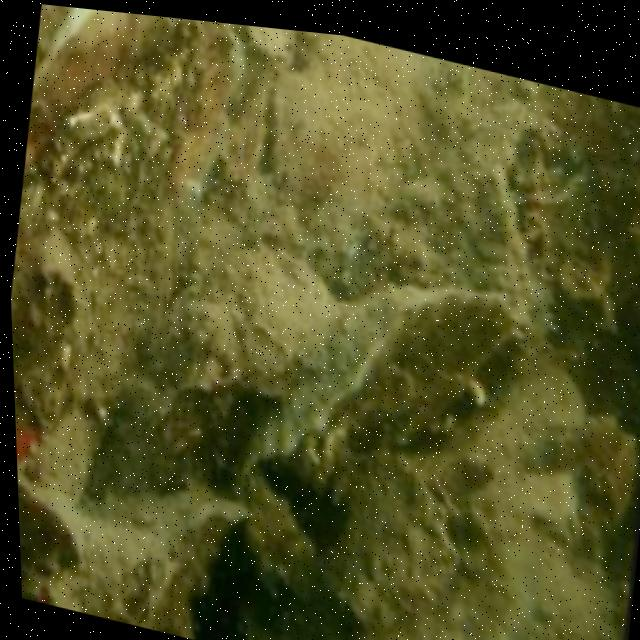Oyster-Closed: (34, 7, 174, 112)
Oyster-Indeterminate: (263, 295, 525, 488)
